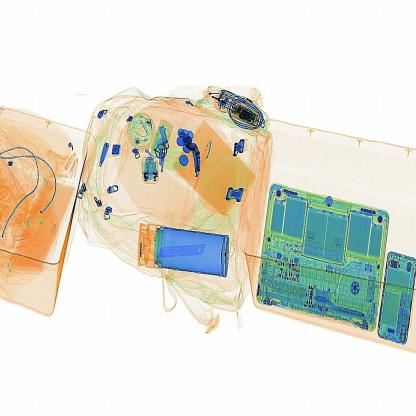pliers: (152, 237, 216, 266)
